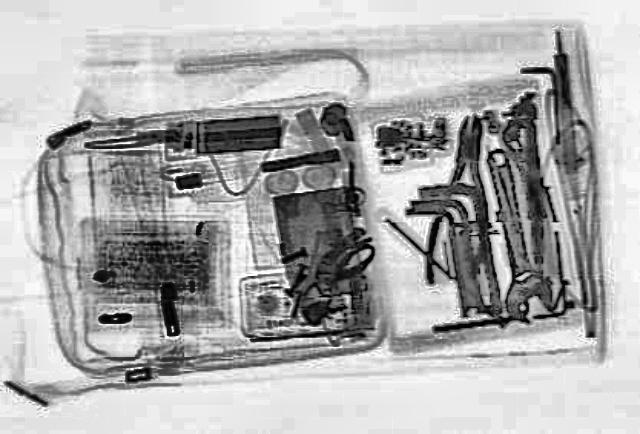Pliers: (421, 112, 497, 284)
Wrench: (468, 144, 558, 320)
